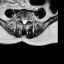CCS_normal: (23, 16, 25, 26)
LFS_stenosis: (27, 16, 29, 22)
LLS_normal: (25, 17, 27, 25)
RFS_stenosis: (19, 16, 21, 22)
RLS_normal: (21, 16, 23, 24)
